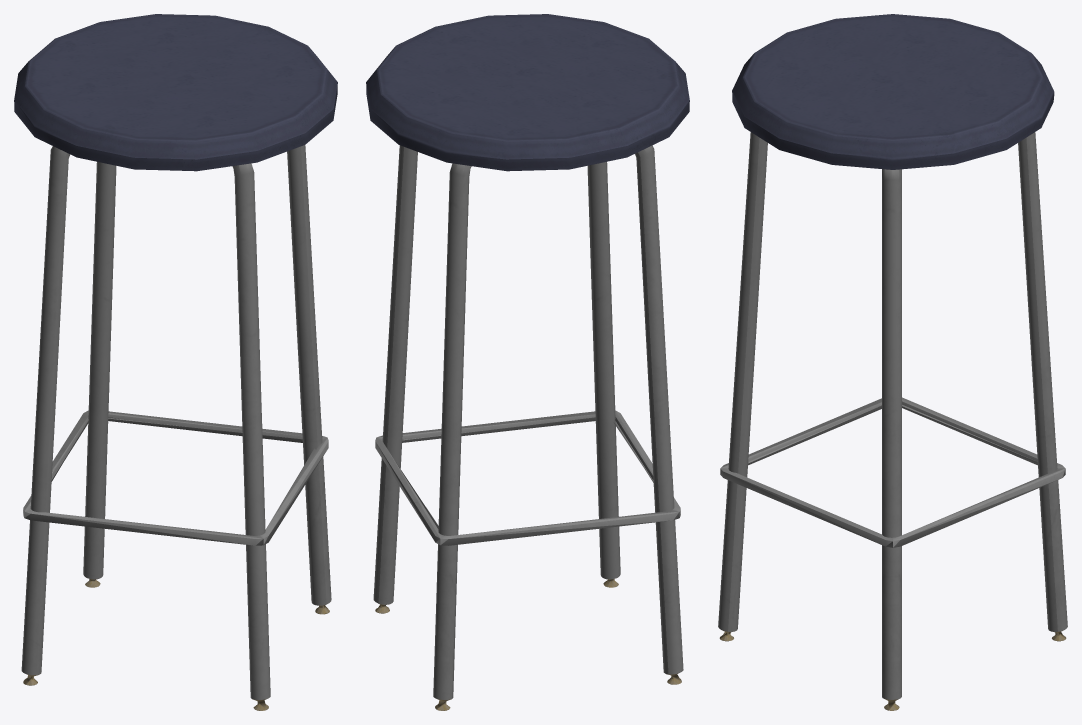
Rendered from stool.fbx.
The picture shows the model from 3 angles, left to right: view 1: azimuth 30°, elevation 25°; view 2: azimuth 150°, elevation 25°; view 3: azimuth 270°, elevation 25°; orthographic projection.
Visible parts, largest first — view 1: stool; view 2: stool; view 3: stool.
Boxes of the visible parts, x1,y1,x2,y2 form: stool: (14,14,337,710); stool: (366,14,689,710); stool: (718,14,1067,710).
Bounding box in the file's own units: 38.66 × 68.4 × 38.66.
Materials: 1 (1 with a texture image).
